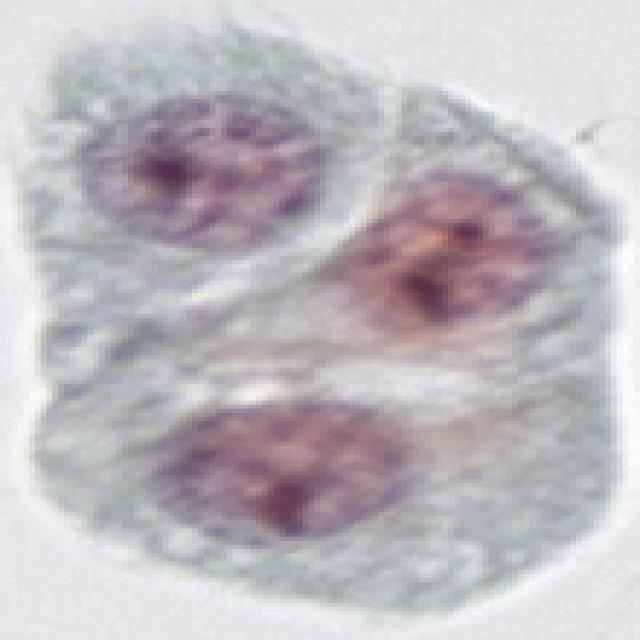cytoplasm: (32, 331, 628, 616), (0, 12, 402, 332)
nucleus: (328, 137, 576, 384), (140, 377, 440, 567), (91, 88, 329, 254)
